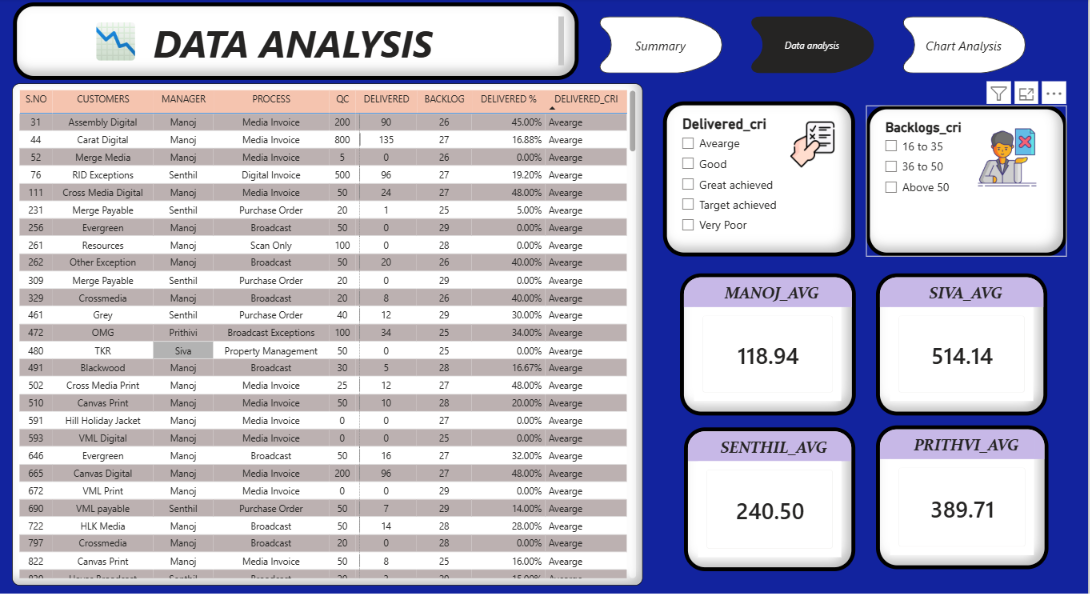

The page's visual inventory and layout, read from the dashboard file:
{"tool":"powerbi","page":{"name":"Data analysis ","canvas":[1550,850],"ordinal":1},"visuals":[{"type":"textbox","box":[18.9,5.8,805.5,110.5],"z":0},{"type":"pageNavigator","box":[837.5,25.6,640.9,81.2],"z":1000},{"type":"tableEx","fields":{"Values":["Fact Table.S.NO","Cus_Dim.Name of End Customer","Manager_Dim.Manager @ Springbord","Process_dim.Name of the process","Sum(Fact Table.Capacity of QC / Sampling per day)","Sum(Fact Table.Delivered)","Sum(Fact Table.Backlog (Error))","Sum(Fact Table.Delivered %Diff)","Fact Table.Delivered_cri"]},"box":[17.1,121.1,898.7,715],"z":2000},{"type":"slicer","fields":{"Values":["Fact Table.Delivered_cri"]},"box":[943.7,146.9,273.4,221],"z":3000},{"type":"slicer","fields":{"Values":["Fact Table.Backlogs_cri"]},"box":[1233,152.7,286.4,215.2],"z":4000},{"type":"cardVisual","title":"MANOJ_AVG","fields":{"Data":["Fact Table.MANOJ_AVG_DELIVERED"]},"box":[968.4,391.1,250.1,202.1],"z":5000},{"type":"cardVisual","title":"PRITHVI_AVG","fields":{"Data":["Fact Table.PRITHVI_AVG_DELIVERED"]},"box":[1247.6,607.8,245.7,205],"z":6000},{"type":"cardVisual","title":"SENTHIL_AVG","fields":{"Data":["Fact Table.SENTHIL_AVG_DELIVERED"]},"box":[974.2,610.7,244.3,205],"z":7000},{"type":"cardVisual","title":"SIVA_AVG","fields":{"Data":["Fact Table.SIVA_AVG_DELIVERED"]},"box":[1247.6,391.1,244.3,202.1],"z":8000},{"type":"image","box":[113.4,23.3,101.8,77.1],"z":9000},{"type":"image","box":[1390.1,162.9,88.7,128],"z":10000},{"type":"image","box":[1096.3,174.5,120.7,65.4],"z":11000}]}

Visuals, with their boxes in screenshot pixels (x1, y1, x2, y2), scaled from the page's 1550x850 canvas onto the 1090x594 screenshot:
textbox: <bbox>13, 4, 580, 81</bbox>
pageNavigator: <bbox>589, 18, 1040, 75</bbox>
tableEx - Fact Table.S.NO x Cus_Dim.Name of End Customer: <bbox>12, 85, 644, 584</bbox>
slicer - Fact Table.Delivered_cri: <bbox>664, 103, 856, 257</bbox>
slicer - Fact Table.Backlogs_cri: <bbox>867, 107, 1068, 257</bbox>
"MANOJ_AVG" cardVisual: <bbox>681, 273, 857, 415</bbox>
"PRITHVI_AVG" cardVisual: <bbox>877, 425, 1050, 568</bbox>
"SENTHIL_AVG" cardVisual: <bbox>685, 427, 857, 570</bbox>
"SIVA_AVG" cardVisual: <bbox>877, 273, 1049, 415</bbox>
image: <bbox>80, 16, 151, 70</bbox>
image: <bbox>978, 114, 1040, 203</bbox>
image: <bbox>771, 122, 856, 168</bbox>
